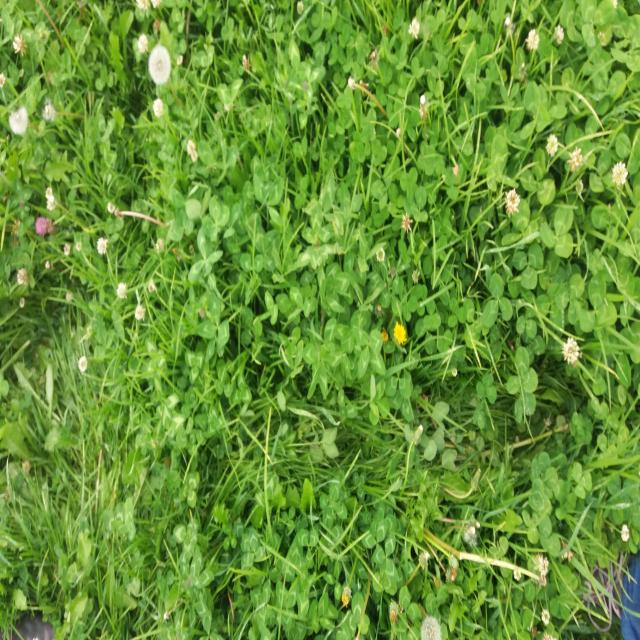Four Leaf Clover: (306, 342, 346, 400), (187, 242, 222, 283), (202, 198, 229, 239)
